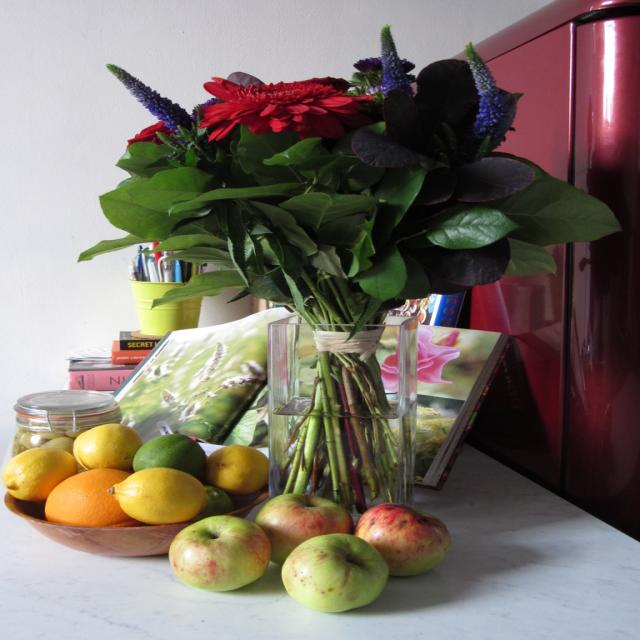Healty Apple: (280, 535, 388, 612), (173, 512, 277, 589), (353, 503, 451, 579), (258, 492, 349, 564)
